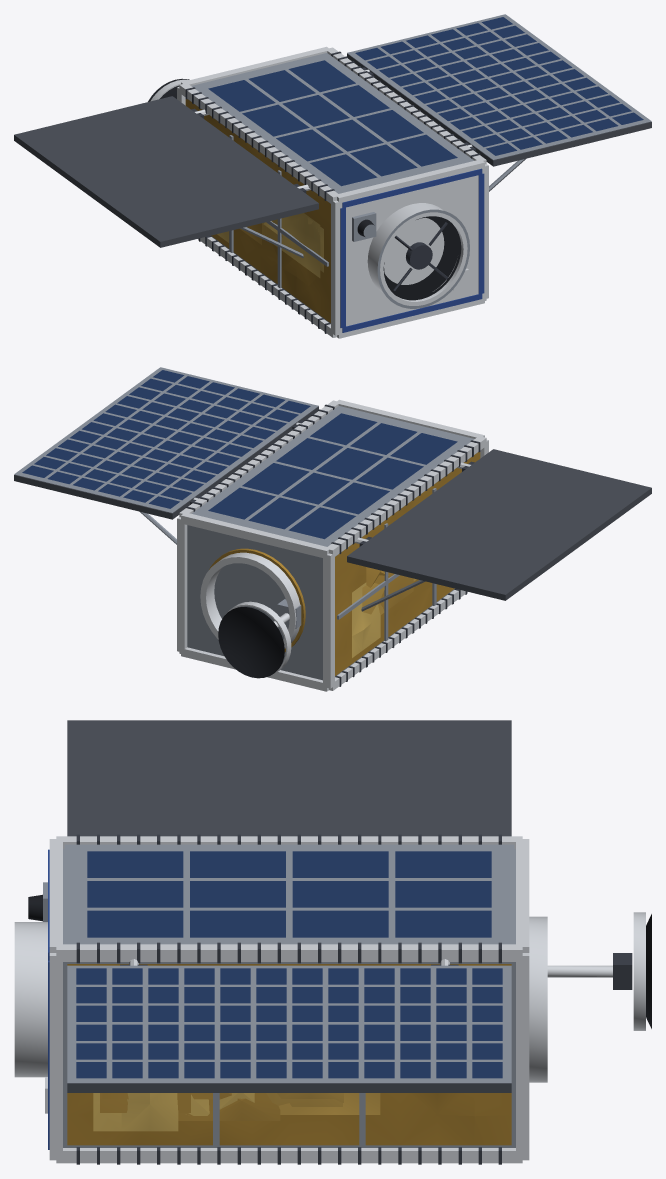
Rendered from blacksky-gen2.glb.
3 views of the same model, one above another, from view 1: azimuth 30°, elevation 25°; view 2: azimuth 150°, elevation 25°; view 3: azimuth 270°, elevation 25° (orthographic). The views are drawn at different scales.
Parts seen in each view (by area): view 1: body, solar-panel, foil; view 2: body, solar-panel, foil; view 3: body, solar-panel, foil.
Part boxes in pixels (bbox=[...]): body: bbox=[14, 14, 651, 338]; solar-panel: bbox=[208, 17, 643, 186]; foil: bbox=[148, 78, 330, 322]; body: bbox=[14, 367, 651, 691]; solar-panel: bbox=[22, 370, 457, 539]; foil: bbox=[218, 452, 480, 678]; body: bbox=[14, 720, 645, 1164]; solar-panel: bbox=[76, 851, 502, 1078]; foil: bbox=[67, 914, 651, 1145].
Bounding box in the file's own units: 1.55 × 0.4311 × 1.15.
